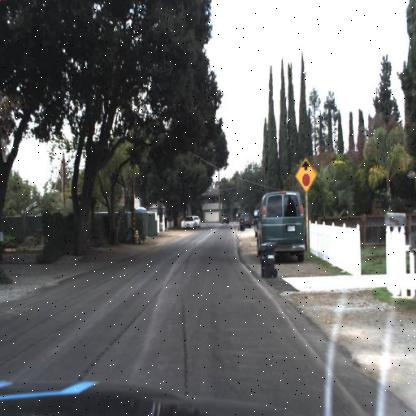car: (252, 187, 309, 261), (180, 214, 196, 229), (220, 211, 232, 227), (194, 213, 203, 229)
